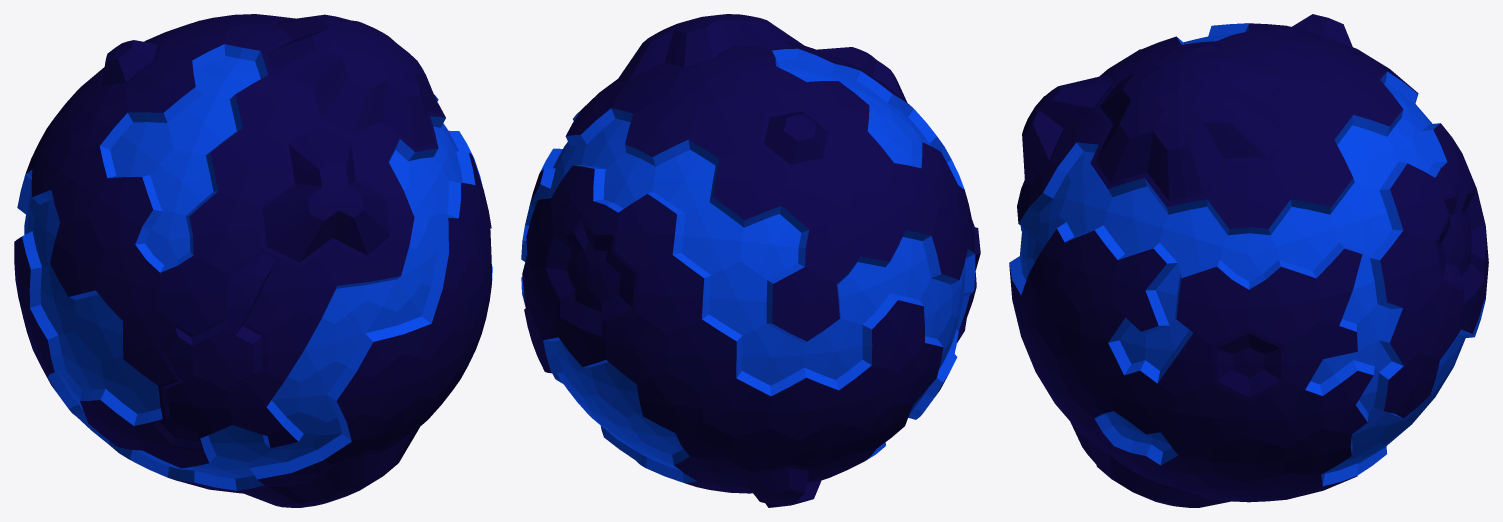
Rendered from Planet5Evo4.glb.
3 renders of one model, left to right at view 1: azimuth 30°, elevation 25°; view 2: azimuth 150°, elevation 25°; view 3: azimuth 270°, elevation 25°, orthographic. The views are drawn at different scales.
Visible parts, largest first — view 1: Icosphere.040; view 2: Icosphere.040; view 3: Icosphere.040.
Part boxes in pixels (x1,y1,x2,y2): Icosphere.040: [14, 14, 492, 507]; Icosphere.040: [521, 14, 980, 507]; Icosphere.040: [1009, 14, 1488, 507].
Size of the model in its own units: 1.8 by 1.9 by 1.81.
